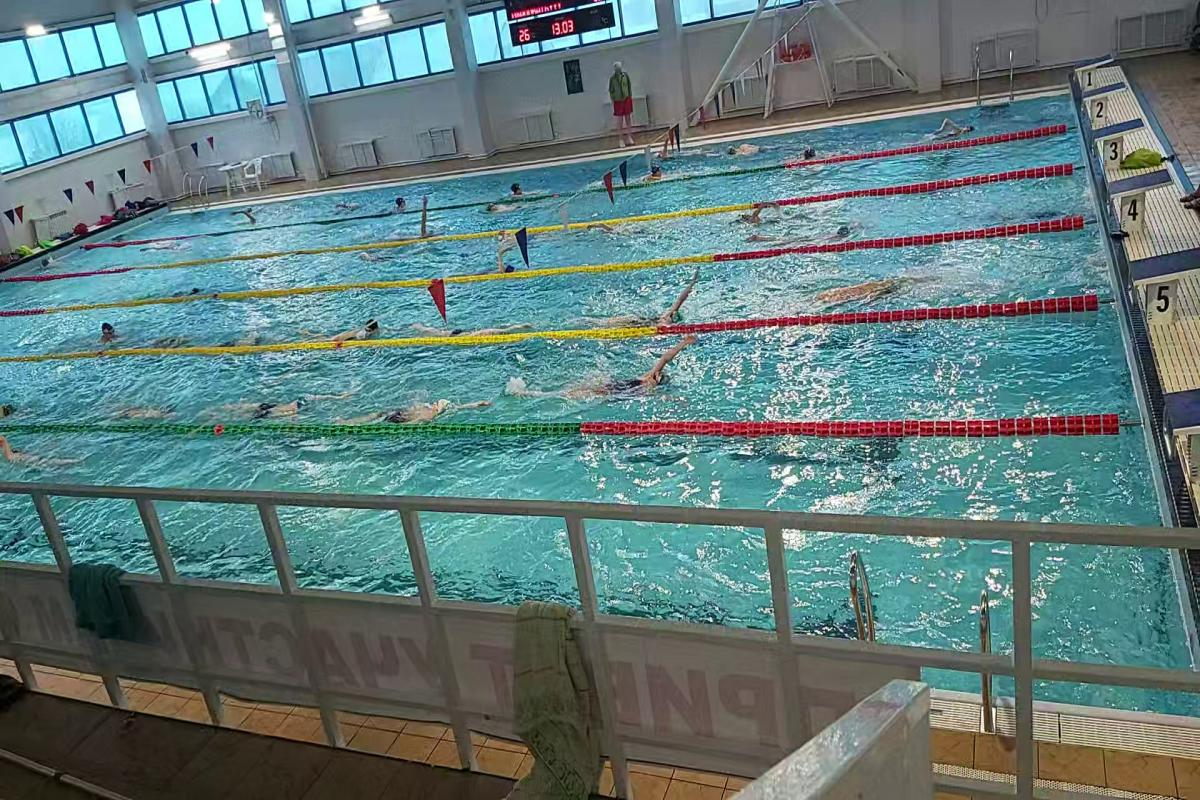swimmer: (526, 341, 697, 406), (347, 384, 480, 424), (596, 277, 695, 327), (1, 434, 97, 473), (221, 383, 321, 420), (800, 277, 918, 308), (328, 316, 388, 342), (476, 247, 518, 280), (88, 316, 128, 350), (408, 199, 442, 239), (741, 204, 783, 229), (825, 222, 864, 245), (486, 201, 528, 216)
